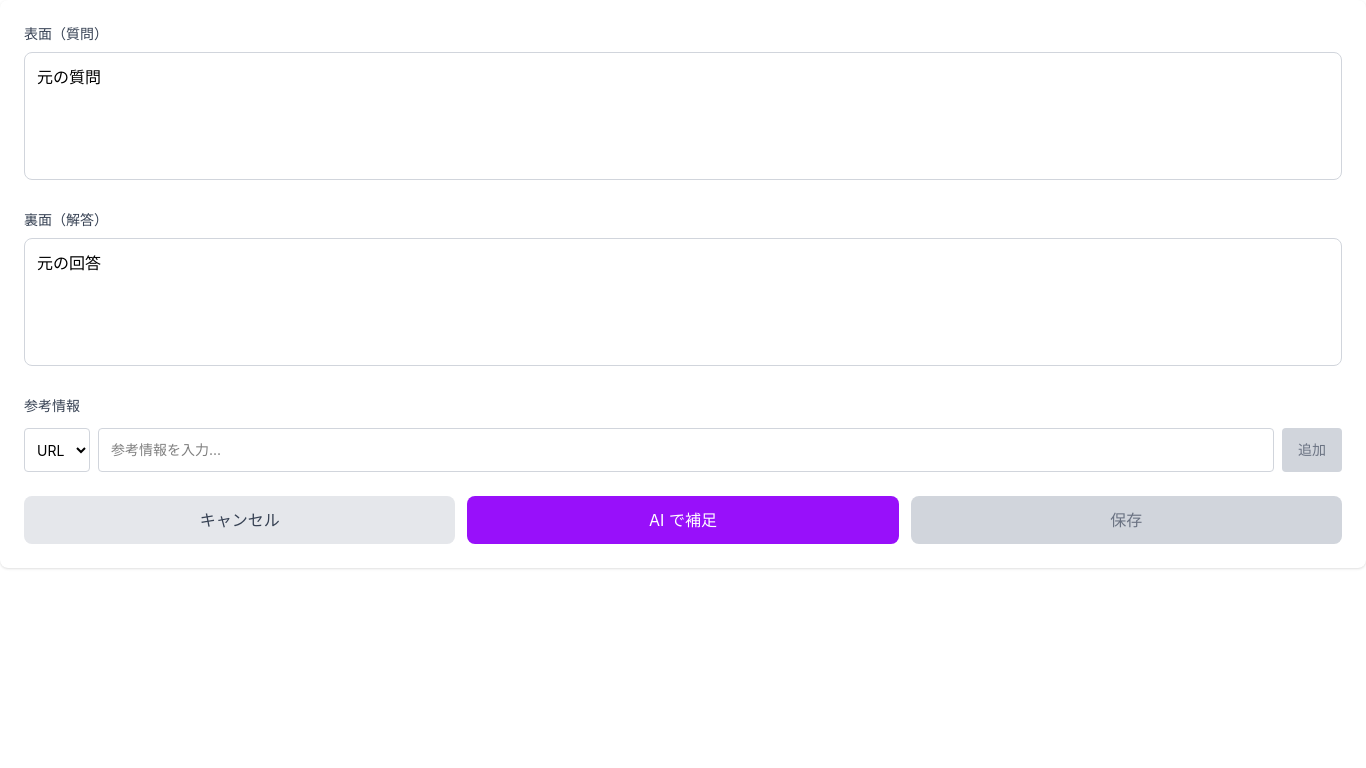
Test: CardForm › AI で補足 › AI で補足成功時にテキストエリアが更新される
The image size is (1366, 768).
Click the button with test id "refine-button" at [683, 520], box x1=467 y1=496 x2=899 y2=544
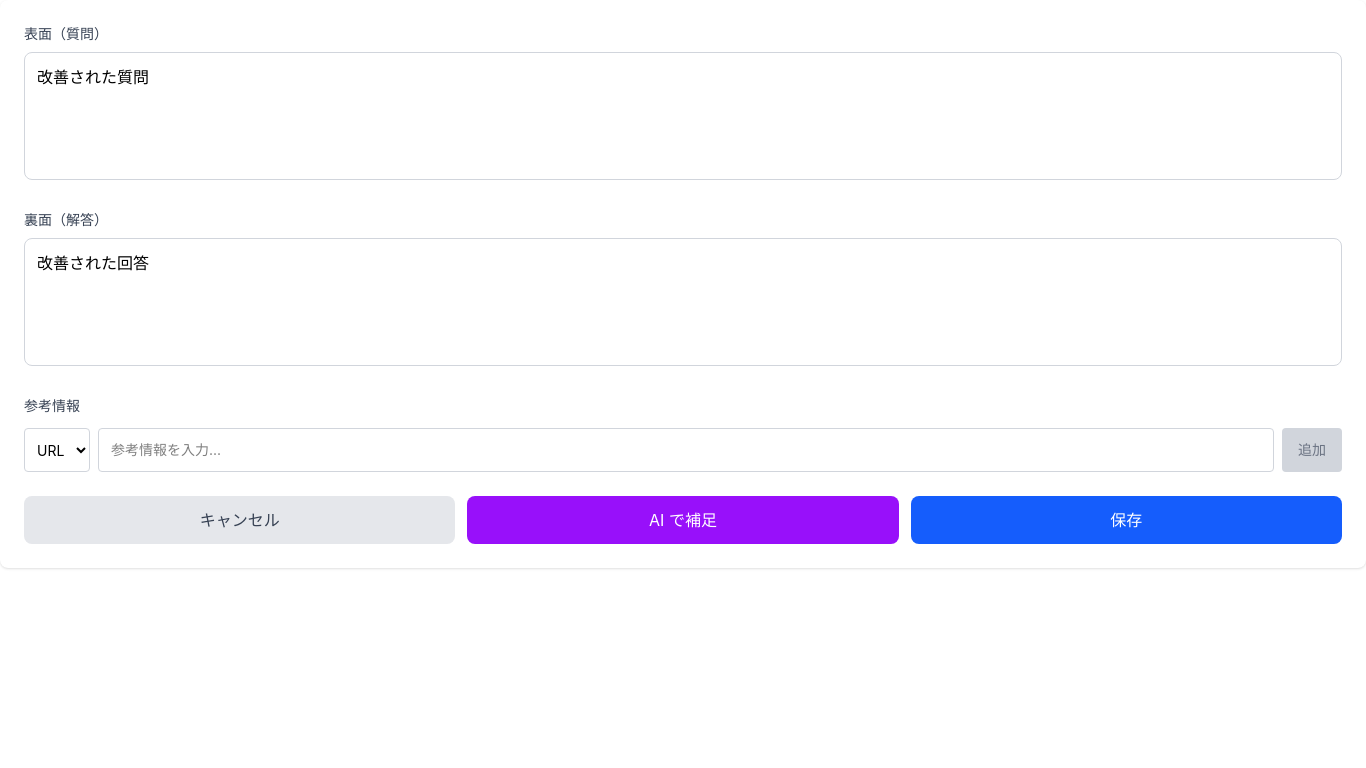
Expected: the text box with test id "input-front" holds "改善された質問", x1=24 y1=52 x2=1342 y2=180
Expected: the text box with test id "input-back" holds "改善された回答", x1=24 y1=238 x2=1342 y2=366
